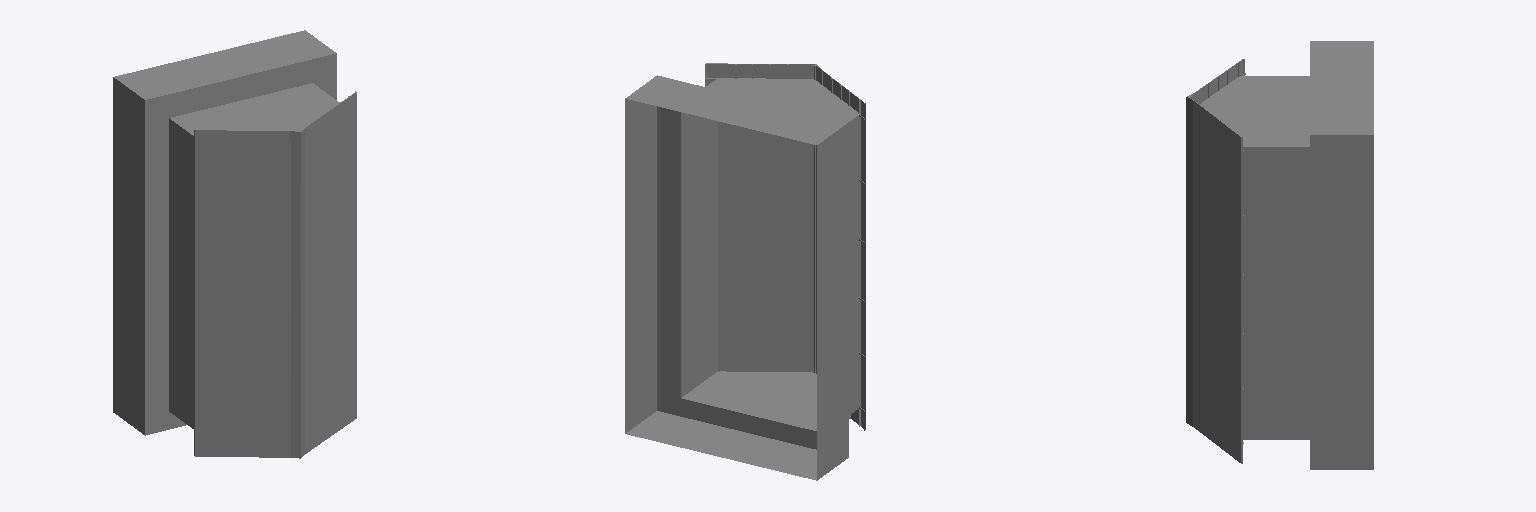
File: old_house.obj
The picture shows the model from 3 angles: view 1: azimuth 30°, elevation 25°; view 2: azimuth 150°, elevation 25°; view 3: azimuth 270°, elevation 25°; orthographic projection.
Parts seen in each view (by area): view 1: SAN_RUMAHGEN05; view 2: SAN_RUMAHGEN05; view 3: SAN_RUMAHGEN05.
Boxes of the visible parts, x1=… form: SAN_RUMAHGEN05: x1=113, y1=30, x2=356, y2=458; SAN_RUMAHGEN05: x1=625, y1=63, x2=865, y2=480; SAN_RUMAHGEN05: x1=1186, y1=41, x2=1373, y2=469.
Bounding box in the file's own units: 9.88 × 16.55 × 8.34.